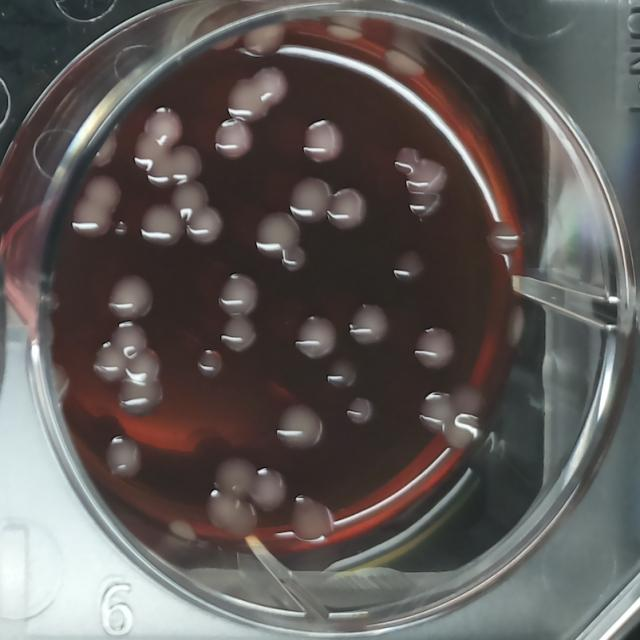Vibrio: (250, 210, 302, 266), (285, 176, 334, 229), (138, 200, 184, 253), (180, 204, 227, 252), (166, 176, 213, 223)
